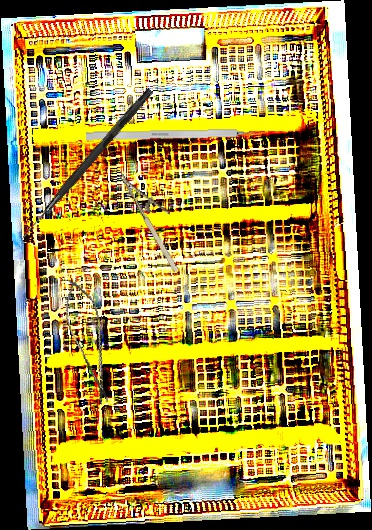Hook Surgical: (18, 85, 154, 245), (85, 128, 273, 141)
Micro Scissor: (56, 273, 122, 409)
Needle Holder: (118, 161, 196, 275)
